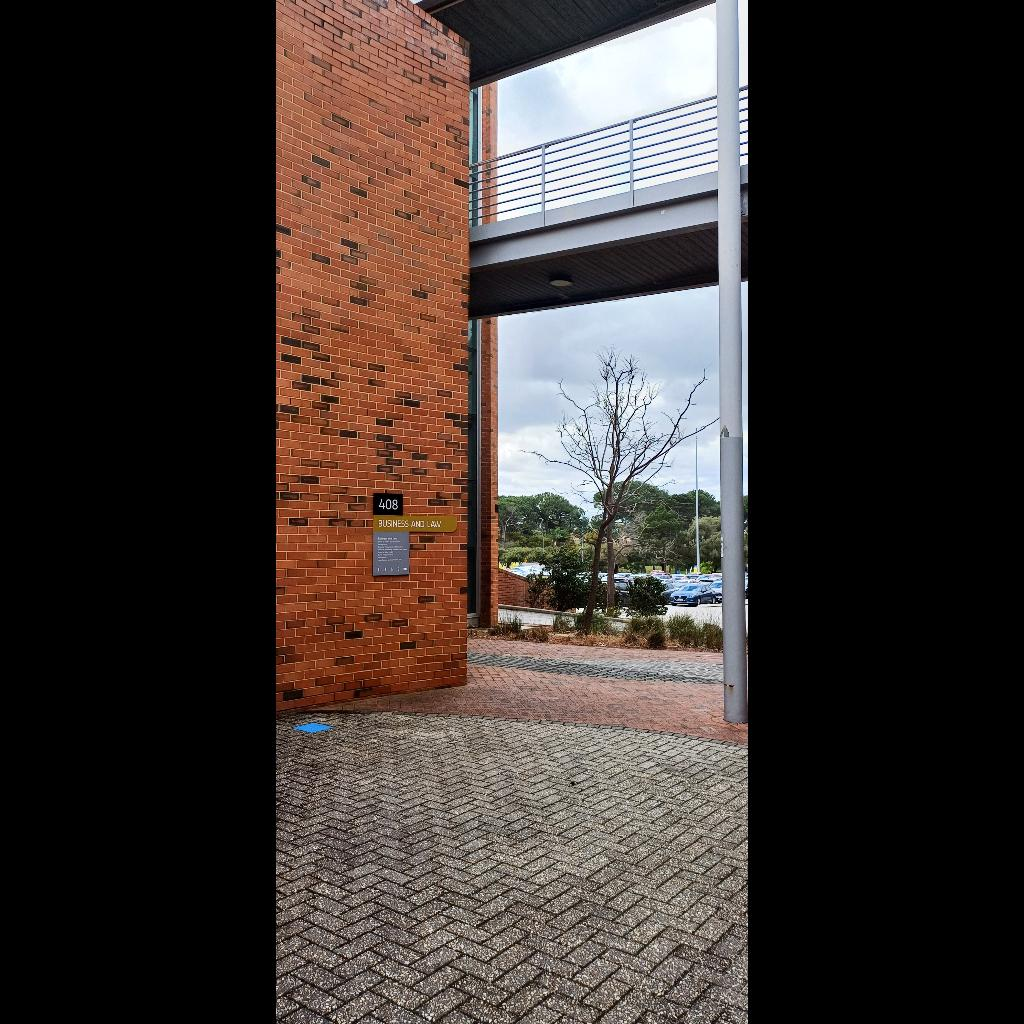BuildingCodes: (379, 496, 399, 512)
